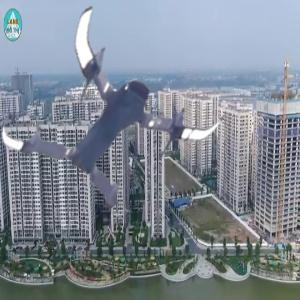drone: (19, 10, 222, 213)
